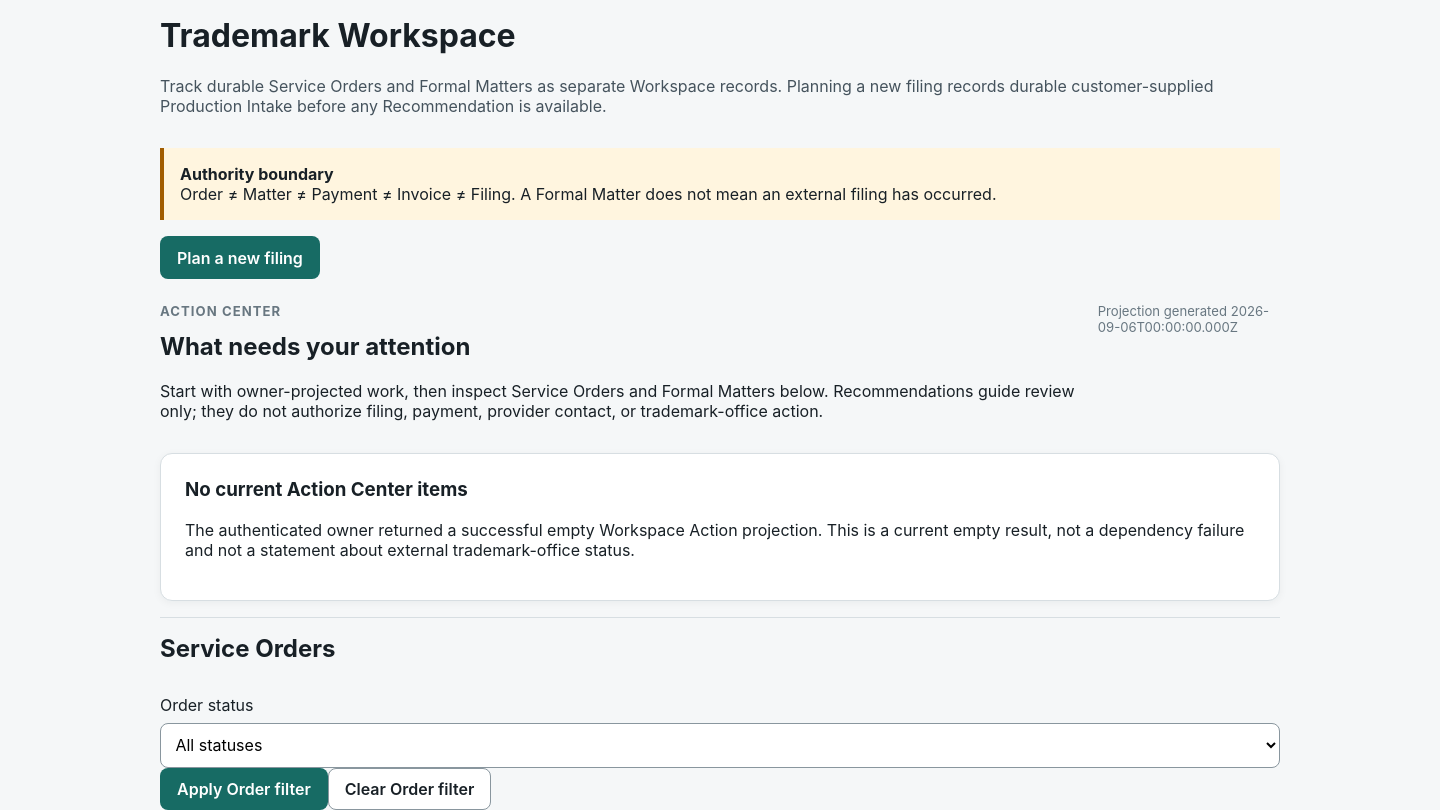
Test case: MarkReg durable Workspace Home › keeps Formal Matters visible when Service Orders are empty and planning remains separate
The width and height of the screenshot is (1440, 810).
Step 1. Click the button "Plan a new filing" → click(240, 258), box [160,236,320,279]
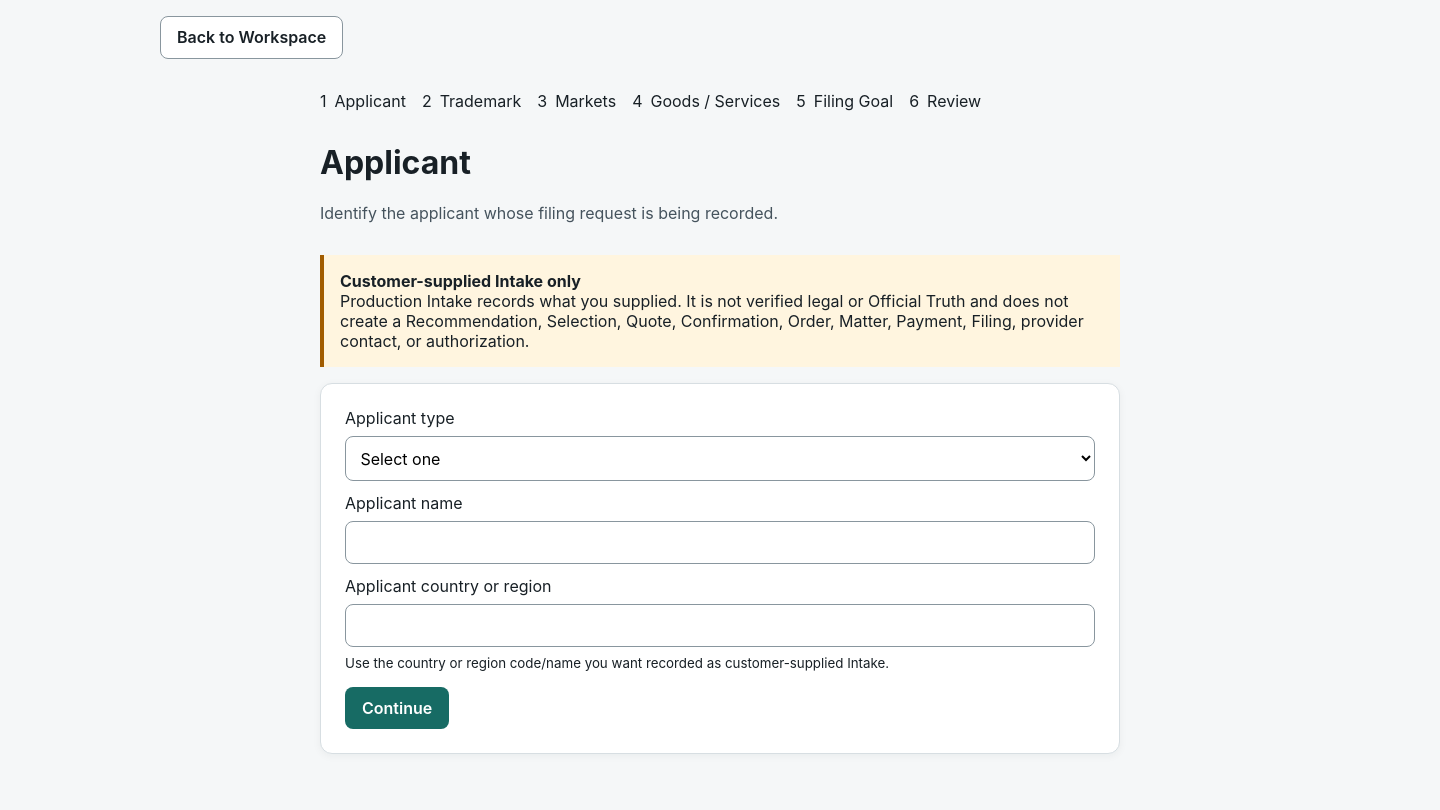
Expected: the text "Customer-supplied Intake only" is shown, [340,271,581,291]
Expected: the button "Back to Workspace" is shown, [160,16,343,59]
